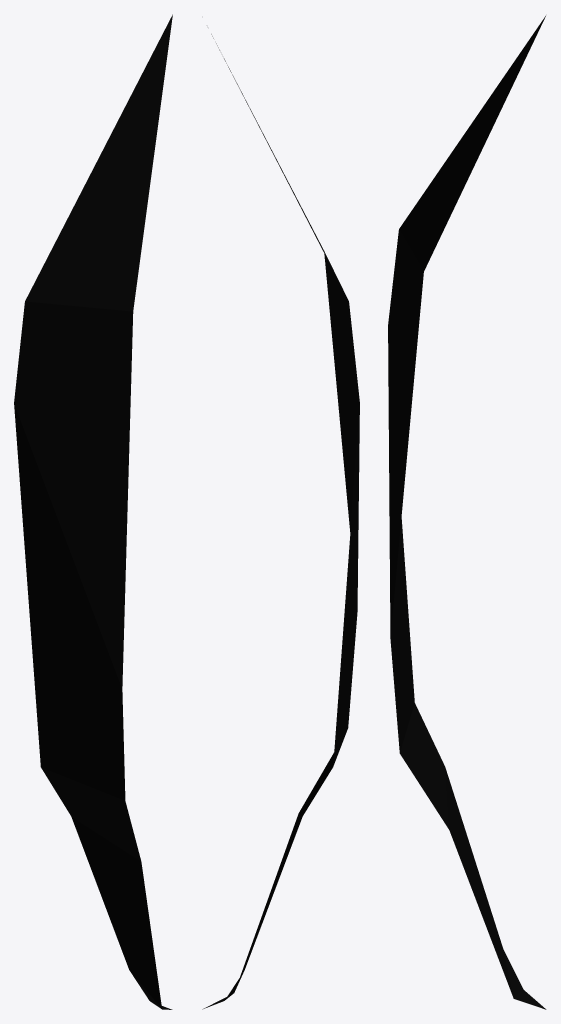
The picture shows the model from 3 angles, left to right: view 1: azimuth 30°, elevation 25°; view 2: azimuth 150°, elevation 25°; view 3: azimuth 330°, elevation 25°; orthographic projection.
Size of the model in its own units: 0.0617 by 0.3697 by 0.0357.
1 material, 1 textured.
